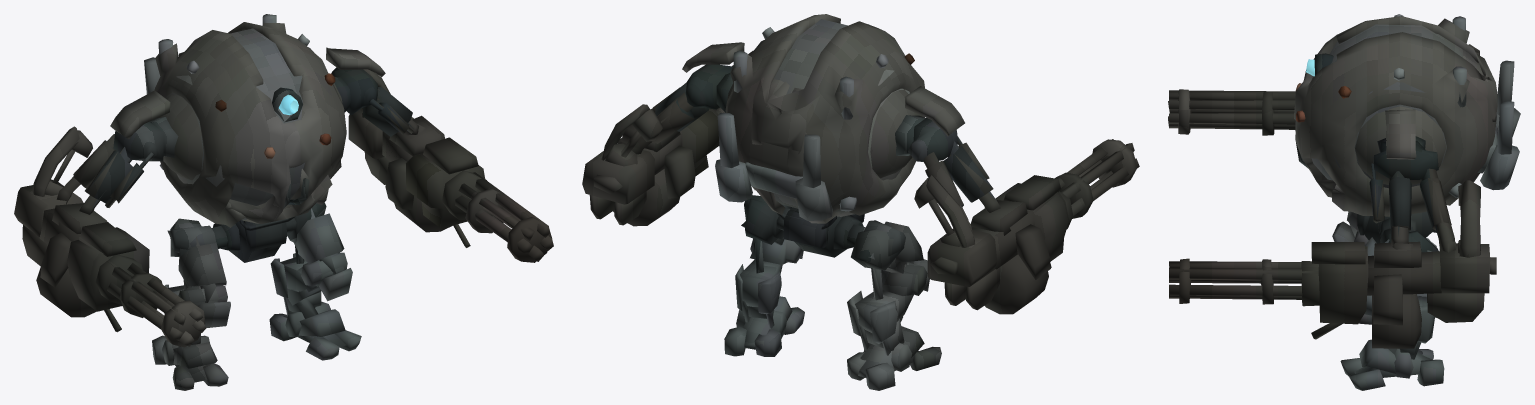
The model's file is revolution_replaced_model_reference_sample.glb.
3 renders of one model, left to right at view 1: azimuth 30°, elevation 25°; view 2: azimuth 150°, elevation 25°; view 3: azimuth 270°, elevation 25°, orthographic. The views are drawn at different scales.
Parts seen in each view (by area): view 1: char1; view 2: char1; view 3: char1.
Boxes of the visible parts, left/top/right/bottom form: char1: left=14, top=14, right=553, bottom=390; char1: left=582, top=14, right=1139, bottom=390; char1: left=1168, top=14, right=1520, bottom=390.
Size of the model in its own units: 2.3 by 1.72 by 1.71.
8 materials, 8 textured.
